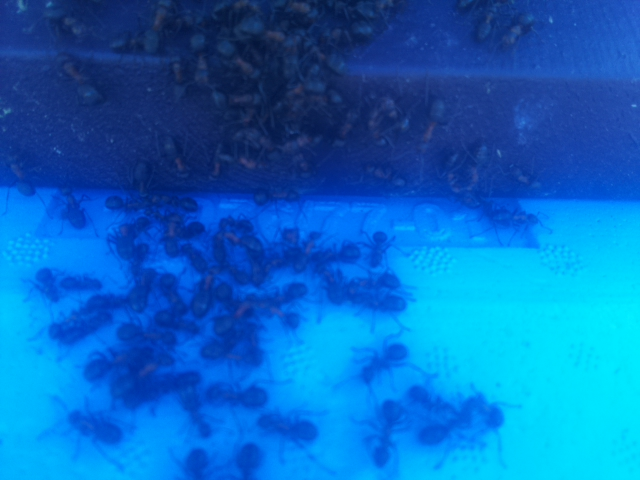ant: (56, 44, 107, 117), (493, 8, 542, 53), (56, 180, 90, 234), (226, 438, 263, 480)
